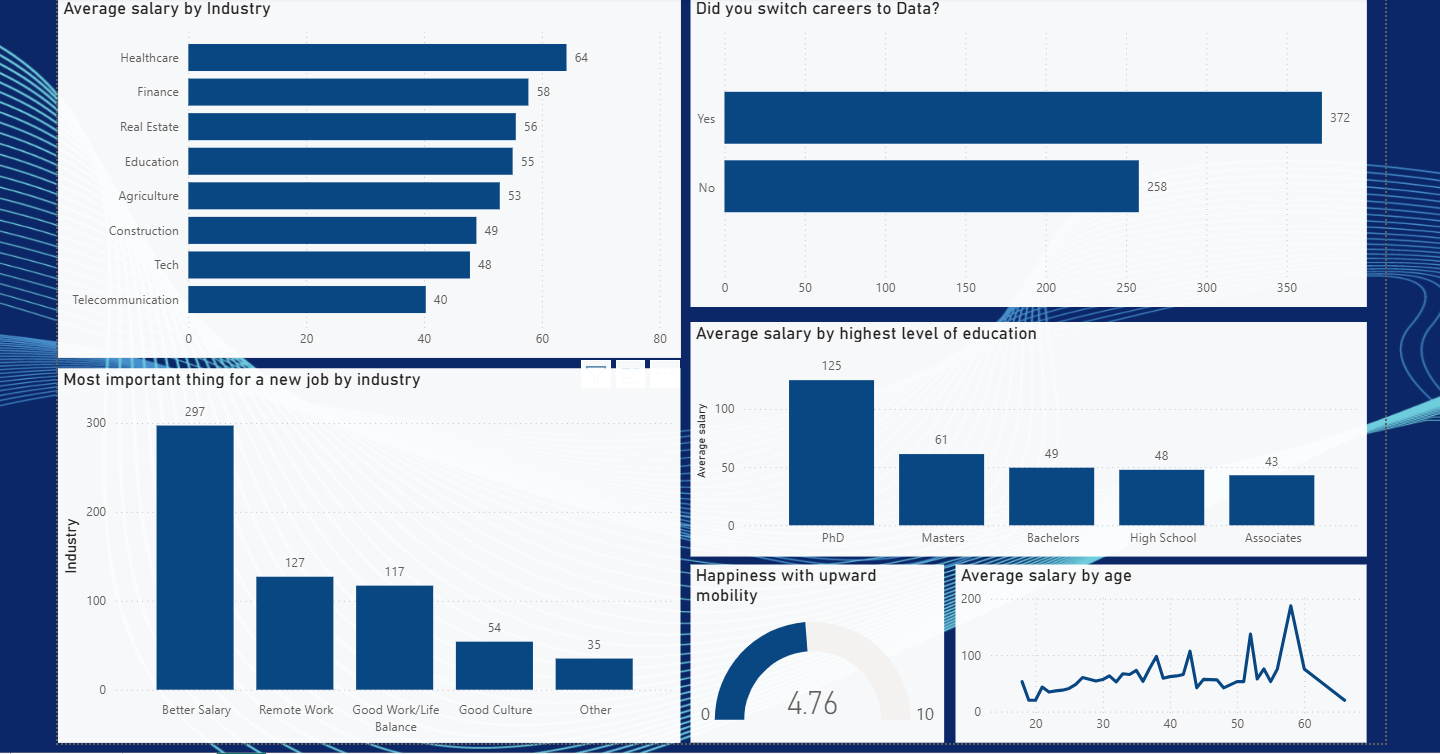

Layout of this report page (visuals, bound fields, positions):
{"tool":"powerbi","page":{"name":"Page 1","canvas":[1280,720],"ordinal":1},"visuals":[{"type":"clusteredBarChart","title":"Average salary by Industry","fields":{"Category":["Data Professional Survey.Q4 - What Industry do you work in?.1"],"Y":["Avg(Data Professional Survey.Q3 - Average Yearly Salary (in USD-thousands))"]},"box":[0,0,601.1,348.2],"z":0},{"type":"gauge","title":"Happiness with upward mobility","fields":{"Y":["Avg(Data Professional Survey.Q6 - How Happy are you in your Current Position with the following? (Upward Mobility))"],"MinValue":["Min(Data Professional Survey.Q6 - How Happy are you in your Current Position with the following? (Upward Mobility))"],"MaxValue":["Max(Data Professional Survey.Q6 - How Happy are you in your Current Position with the following? (Upward Mobility))1"]},"box":[610.3,548.1,244.9,172.1],"z":1},{"type":"clusteredColumnChart","title":"Most important thing for a new job by industry","fields":{"Category":["Data Professional Survey.Q8 - If you were to look for a new job today, what would be the most important t"],"Y":["CountNonNull(Data Professional Survey.Q4 - What Industry do you work in?.1)"]},"box":[0,358.8,601.1,361.4],"z":2},{"type":"clusteredColumnChart","title":"Average salary by highest level of education","fields":{"Category":["Data Professional Survey.Q12 - Highest Level of Education"],"Y":["Avg(Data Professional Survey.Q3 - Average Yearly Salary (in USD-thousands))"]},"box":[610.3,313.8,652.7,226.4],"z":3},{"type":"clusteredBarChart","title":"Did you switch careers to Data?","fields":{"Y":["CountNonNull(Data Professional Survey.Unique ID)"],"Category":["Data Professional Survey.Q2 - Did you switch careers into Data?"]},"box":[610.3,0,652.7,299.2],"z":4},{"type":"lineChart","title":"Average salary by age","fields":{"Y":["Avg(Data Professional Survey.Q3 - Average Yearly Salary (in USD-thousands))"],"Category":["Data Professional Survey.Q10 - Current Age"]},"box":[865.9,548.1,397.2,172.1],"z":5}]}

Visuals, with their boxes in screenshot pixels (x1, y1, x2, y2):
"Average salary by Industry" clusteredBarChart: <bbox>56, 0, 677, 356</bbox>
"Happiness with upward mobility" gauge: <bbox>686, 562, 939, 740</bbox>
"Most important thing for a new job by industry" clusteredColumnChart: <bbox>56, 367, 677, 740</bbox>
"Average salary by highest level of education" clusteredColumnChart: <bbox>686, 320, 1360, 554</bbox>
"Did you switch careers to Data?" clusteredBarChart: <bbox>686, 0, 1360, 305</bbox>
"Average salary by age" lineChart: <bbox>950, 562, 1360, 740</bbox>
